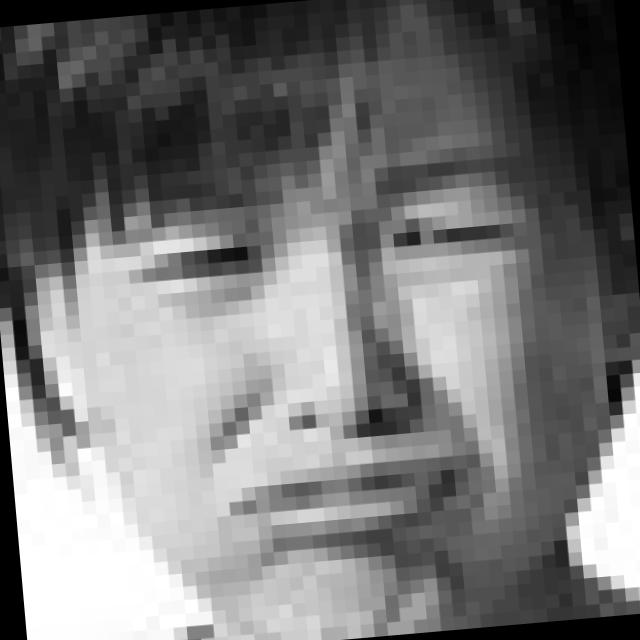disgust: (118, 143, 578, 580)
